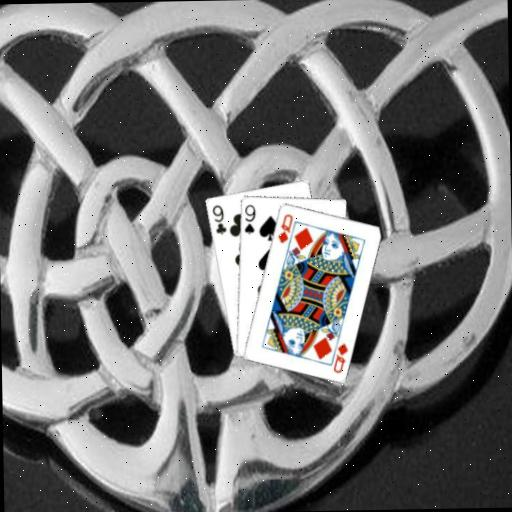9C: (209, 202, 228, 236)
9S: (241, 202, 257, 236)
QD: (274, 211, 295, 245), (330, 340, 351, 374)
